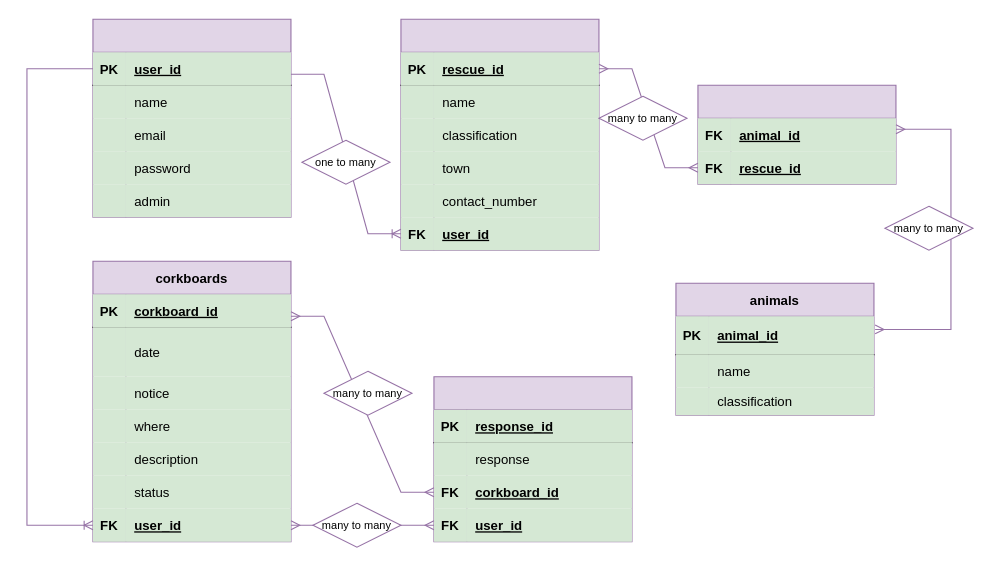
The diagram is 992 pixels wide and 567 high, and some of its shapes have lost their labels. Here are the shapes that lost their labels. From the top down, the box of each, then its label:
(92, 18, 291, 217): users
(400, 18, 599, 250): rescues
(697, 84, 896, 184): animals_rescues
(433, 376, 632, 542): responses
